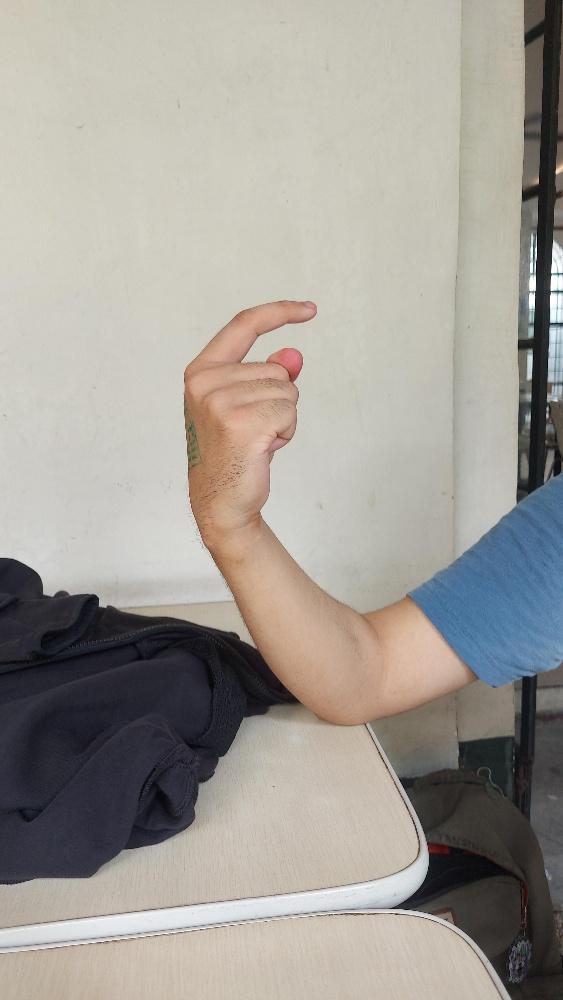x: (182, 299, 317, 530)
